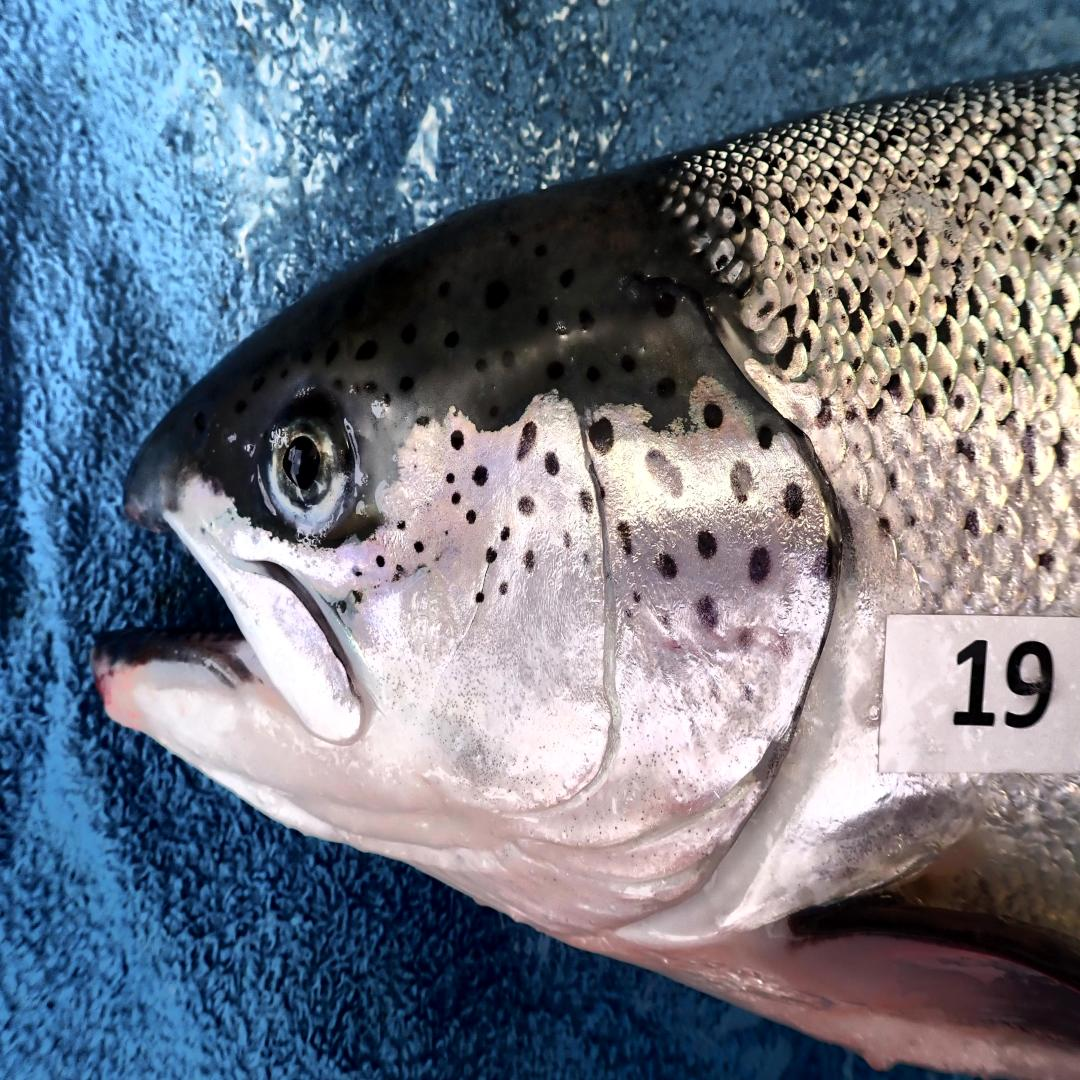spot: (645, 450, 683, 498), (650, 605, 683, 638), (730, 461, 753, 503), (589, 416, 614, 453), (696, 596, 719, 630), (783, 481, 804, 518), (702, 675, 724, 709), (749, 548, 770, 582), (772, 630, 795, 661), (517, 422, 536, 458), (696, 529, 717, 560), (810, 551, 833, 579), (732, 624, 755, 652), (616, 520, 633, 554), (702, 402, 724, 428), (656, 554, 677, 579), (757, 425, 774, 450), (561, 529, 580, 551), (517, 495, 536, 515), (740, 681, 757, 703), (544, 453, 559, 475), (331, 596, 350, 613), (472, 467, 487, 487), (580, 492, 593, 515), (451, 430, 464, 450), (392, 562, 405, 582), (523, 551, 534, 571), (485, 548, 498, 562), (350, 591, 363, 605), (466, 509, 477, 523), (375, 554, 386, 568), (413, 540, 424, 554), (582, 551, 591, 568), (500, 526, 510, 540), (475, 591, 485, 605), (352, 565, 363, 577), (633, 591, 641, 605), (447, 472, 456, 484), (451, 492, 460, 503), (397, 520, 407, 529), (500, 582, 508, 593), (350, 605, 354, 610), (447, 532, 450, 536)
